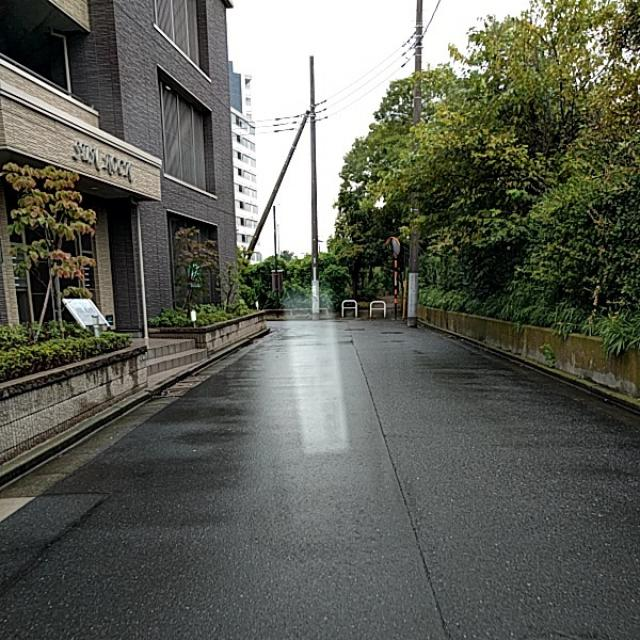pothole: (413, 534, 477, 639)
